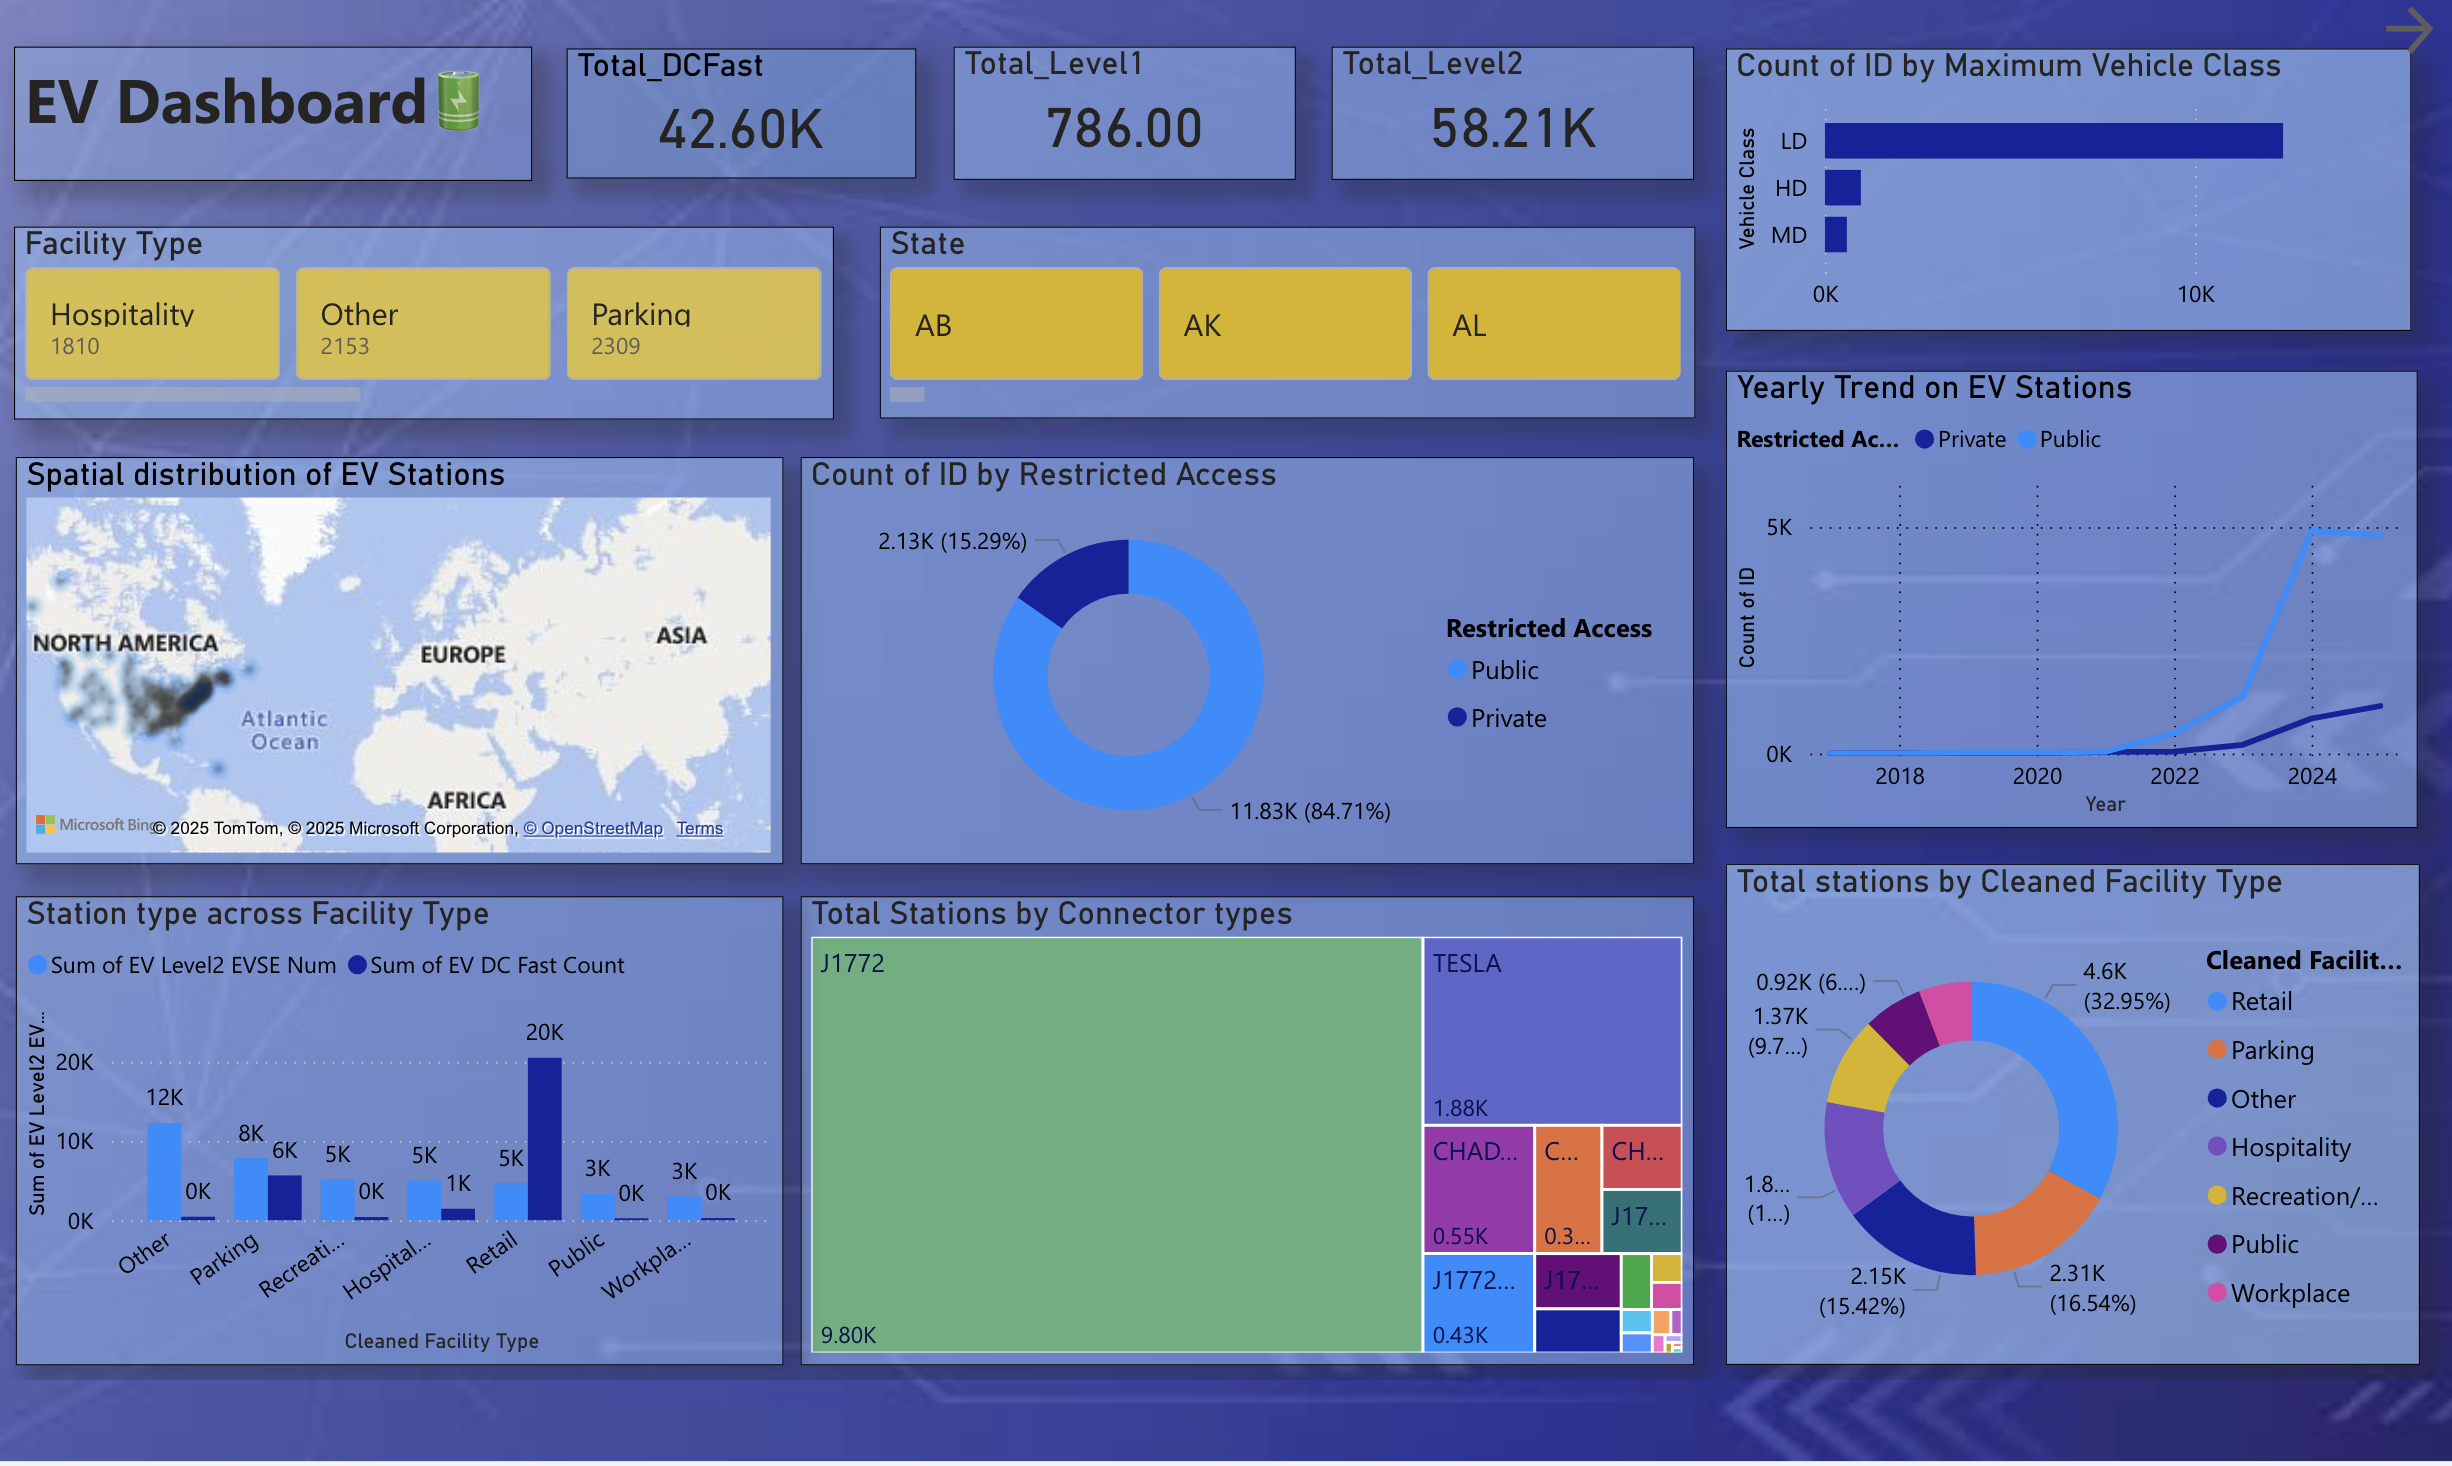

The page's visual inventory and layout, read from the dashboard file:
{"tool":"powerbi","page":{"name":"Page 2","canvas":[1280,720],"ordinal":2},"visuals":[{"type":"textbox","box":[10,570,280,150],"z":0},{"type":"clusteredColumnChart","fields":{"Category":["Vechile Class Summary.Maximum Vehicle Class"],"Y":["Sum(Vechile Class Summary.Total_Level2)","Sum(Vechile Class Summary.Total_DCFast)"]},"box":[10,65,280,150],"z":1000},{"type":"scatterChart","fields":{"X":["Sum(alt_fuel_stations (Nov 25 2025).EV Level2 EVSE Num)"],"Y":["Sum(alt_fuel_stations (Nov 25 2025).EV DC Fast Count)"],"Category":["alt_fuel_stations (Nov 25 2025).State"]},"box":[9.5,279.5,252.5,203.3],"z":2000},{"type":"lineChart","fields":{"Category":["alt_fuel_stations (Nov 25 2025).Date Last Confirmed.Variation.Date Hierarchy.Year"],"Series":["alt_fuel_stations (Nov 25 2025).Restricted Access"],"Y":["CountNonNull(alt_fuel_stations (Nov 25 2025).ID)"]},"box":[285.9,279.5,306.5,263.6],"z":3000},{"type":"donutChart","fields":{"Category":["alt_fuel_stations (Nov 25 2025).Restricted Access"],"Y":["CountNonNull(alt_fuel_stations (Nov 25 2025).ID)"]},"box":[289.5,65,613.4,164.5],"z":4000}]}

Visuals, with their boxes on the page's 1280x720 design canvas (x1, y1, x2, y2). These are canvas units, not pixel positions in the 2452x1466 screenshot, which may show the page scaled, cropped or inside an application window:
textbox: <bbox>10, 570, 290, 720</bbox>
clusteredColumnChart - Vechile Class Summary.Maximum Vehicle Class x Sum(Vechile Class Summary.Total_Level2): <bbox>10, 65, 290, 215</bbox>
scatterChart - Sum(alt_fuel_stations (Nov 25 2025).EV Level2 EVSE Num) x Sum(alt_fuel_stations (Nov 25 2025).EV DC Fast Count): <bbox>10, 280, 262, 483</bbox>
lineChart - alt_fuel_stations (Nov 25 2025).Date Last Confirmed.Variation.Date Hierarchy.Year x alt_fuel_stations (Nov 25 2025).Restricted Access: <bbox>286, 280, 592, 543</bbox>
donutChart - alt_fuel_stations (Nov 25 2025).Restricted Access x CountNonNull(alt_fuel_stations (Nov 25 2025).ID): <bbox>290, 65, 903, 230</bbox>
